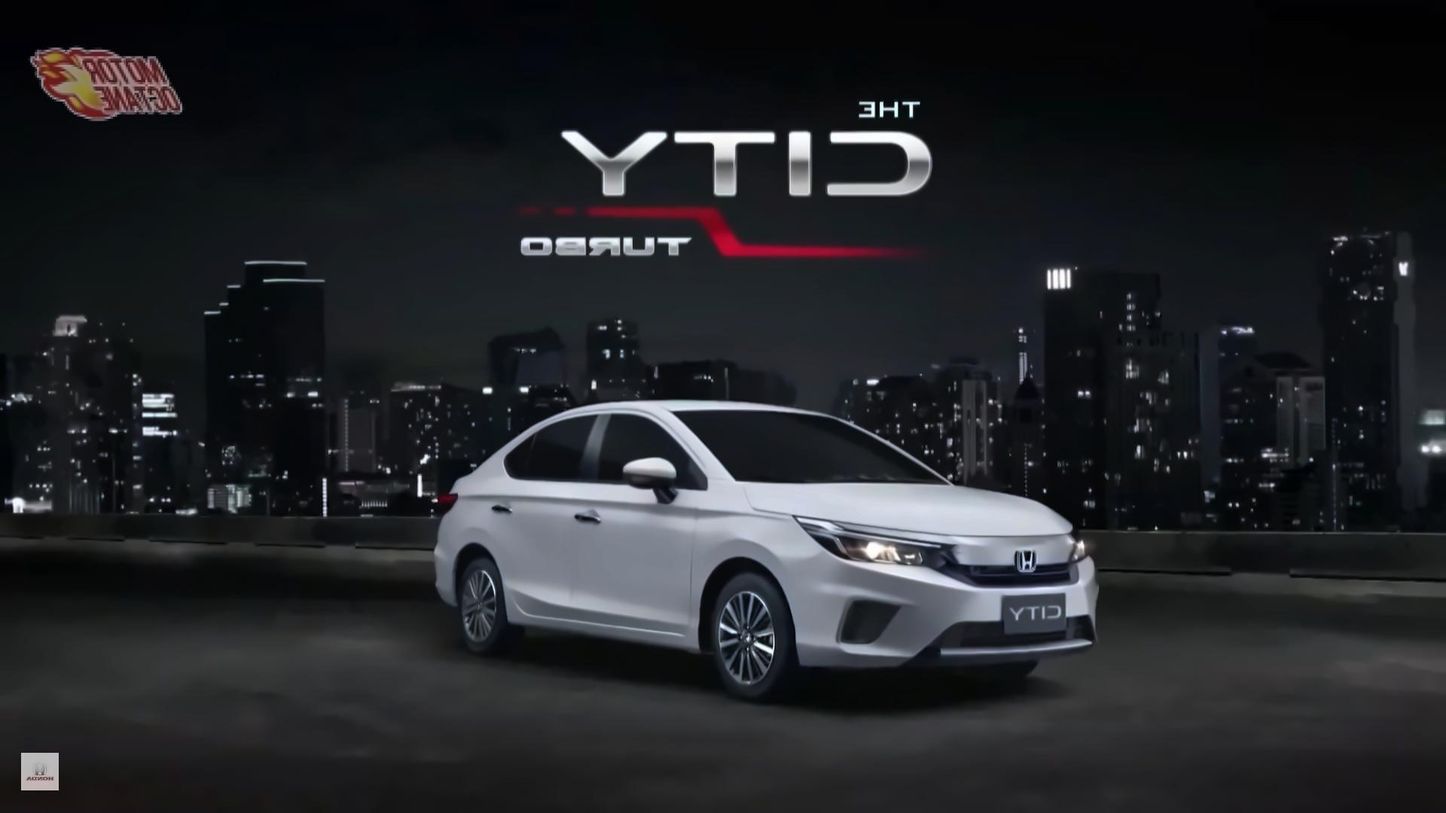Car hood: (744, 478, 1077, 540)
Driver-s door - -F-R-: (574, 402, 691, 638)
Fender - -F-R-: (691, 473, 815, 644)
Fender - -R-R-: (450, 483, 510, 626)
Front bumper: (790, 570, 1108, 677)
Headlight - -L-: (1058, 526, 1099, 570)
Headlight - -R-: (789, 511, 946, 573)
Passenger-s door - -R-R-: (480, 410, 573, 623)
Rear bumper: (425, 544, 462, 611)
Rear light - -L-: (430, 483, 462, 517)
Side bumper - -R-: (500, 593, 704, 658)
Side mirror - -R-: (612, 455, 689, 513)
